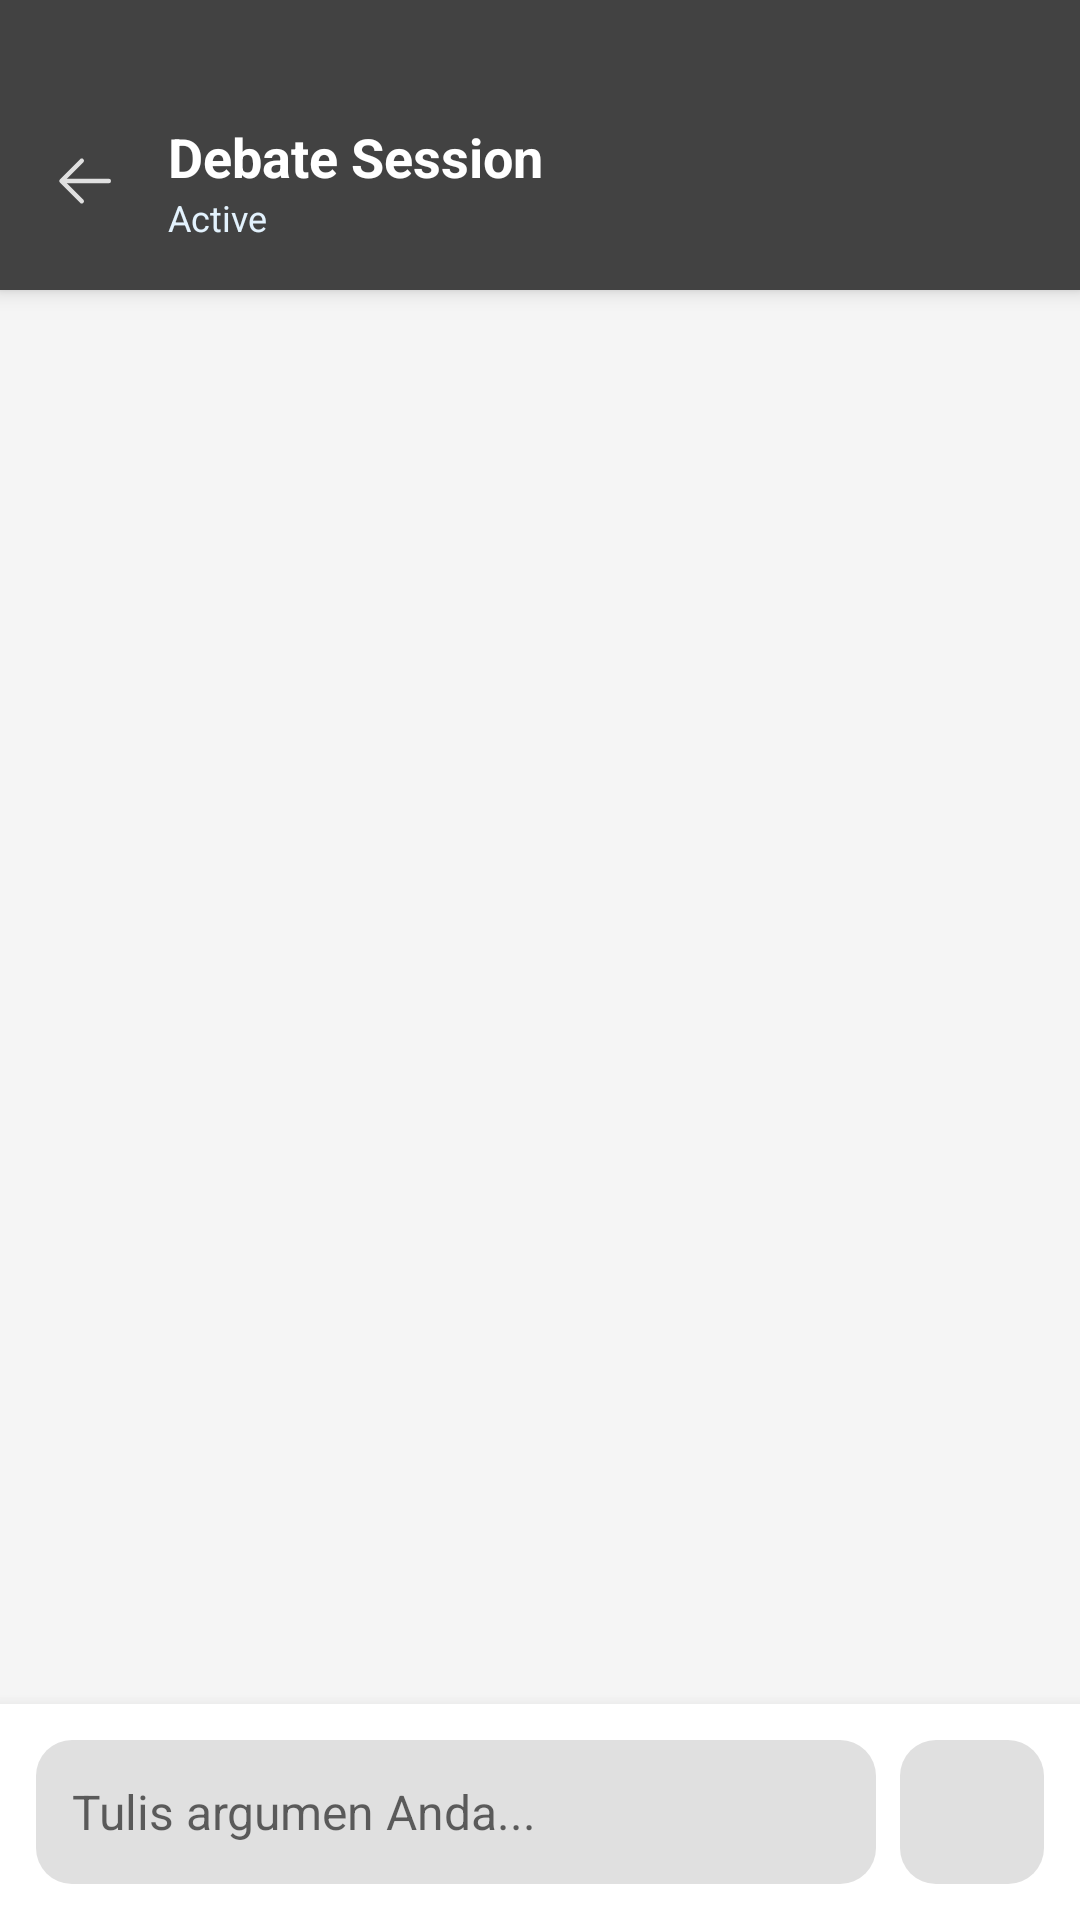

Named icons in this screenshot (1080×1920) and their centers, (x,y):
Back: (85,181)
